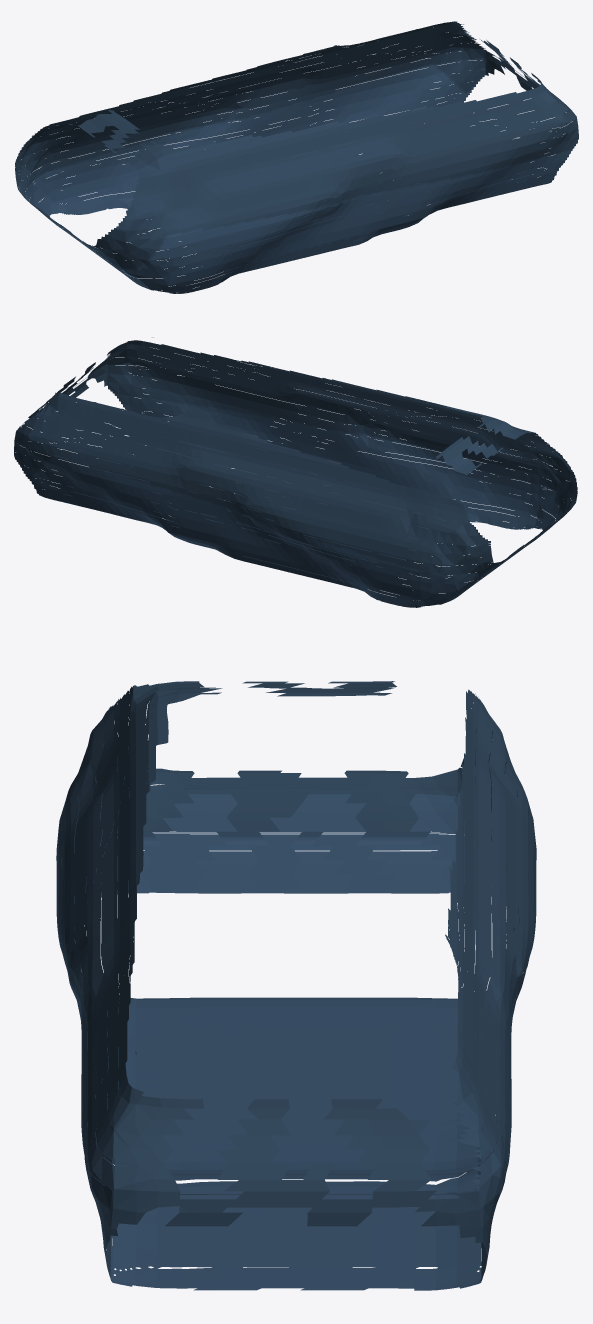
3 views of the same model, one above another, from view 1: azimuth 30°, elevation 25°; view 2: azimuth 150°, elevation 25°; view 3: azimuth 270°, elevation 25° (orthographic). The views are drawn at different scales.
Parts seen in each view (by area): view 1: reconstruction; view 2: reconstruction; view 3: reconstruction.
Boxes of the visible parts, left/top/right/bottom form: reconstruction: left=15, top=21, right=578, bottom=293; reconstruction: left=14, top=337, right=577, bottom=607; reconstruction: left=56, top=681, right=536, bottom=1290.
Bounding box in the file's own units: 1 × 0.291 × 0.4276.
Materials: 1 (1 with a texture image).
